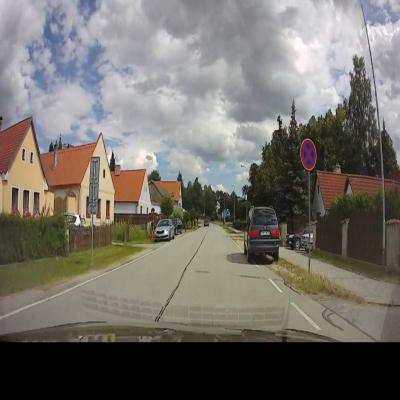clear-road: (112, 223, 288, 308)
